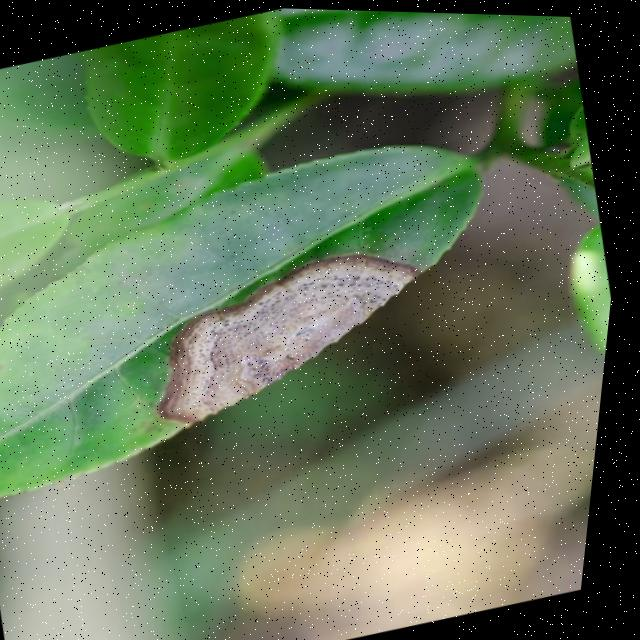Tea cloud leaf blight: (125, 221, 466, 459)
